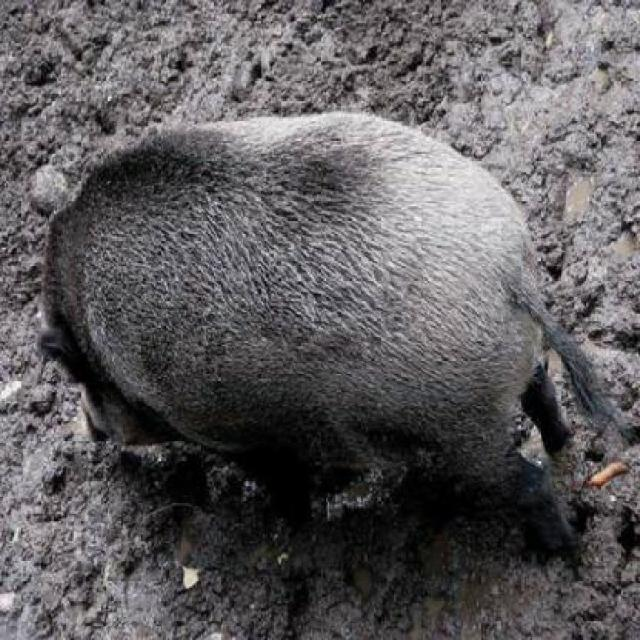Boar: (14, 63, 600, 519)
